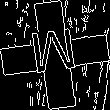M_S: (28, 27, 82, 83)
